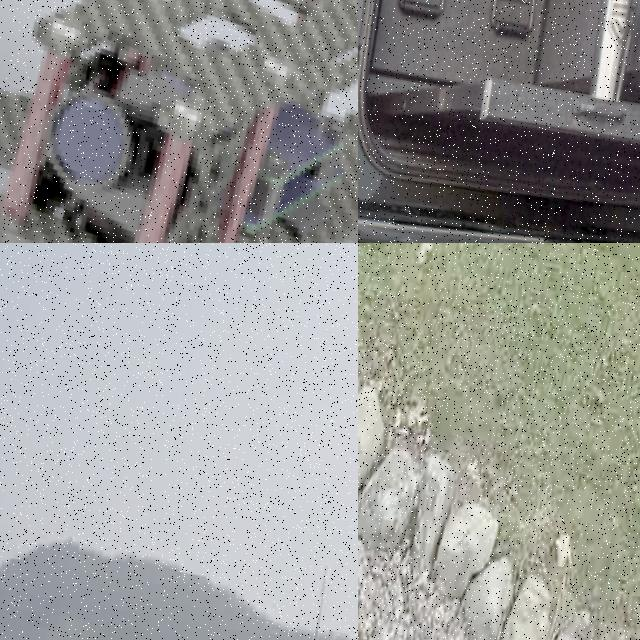drone: (0, 0, 358, 243)
